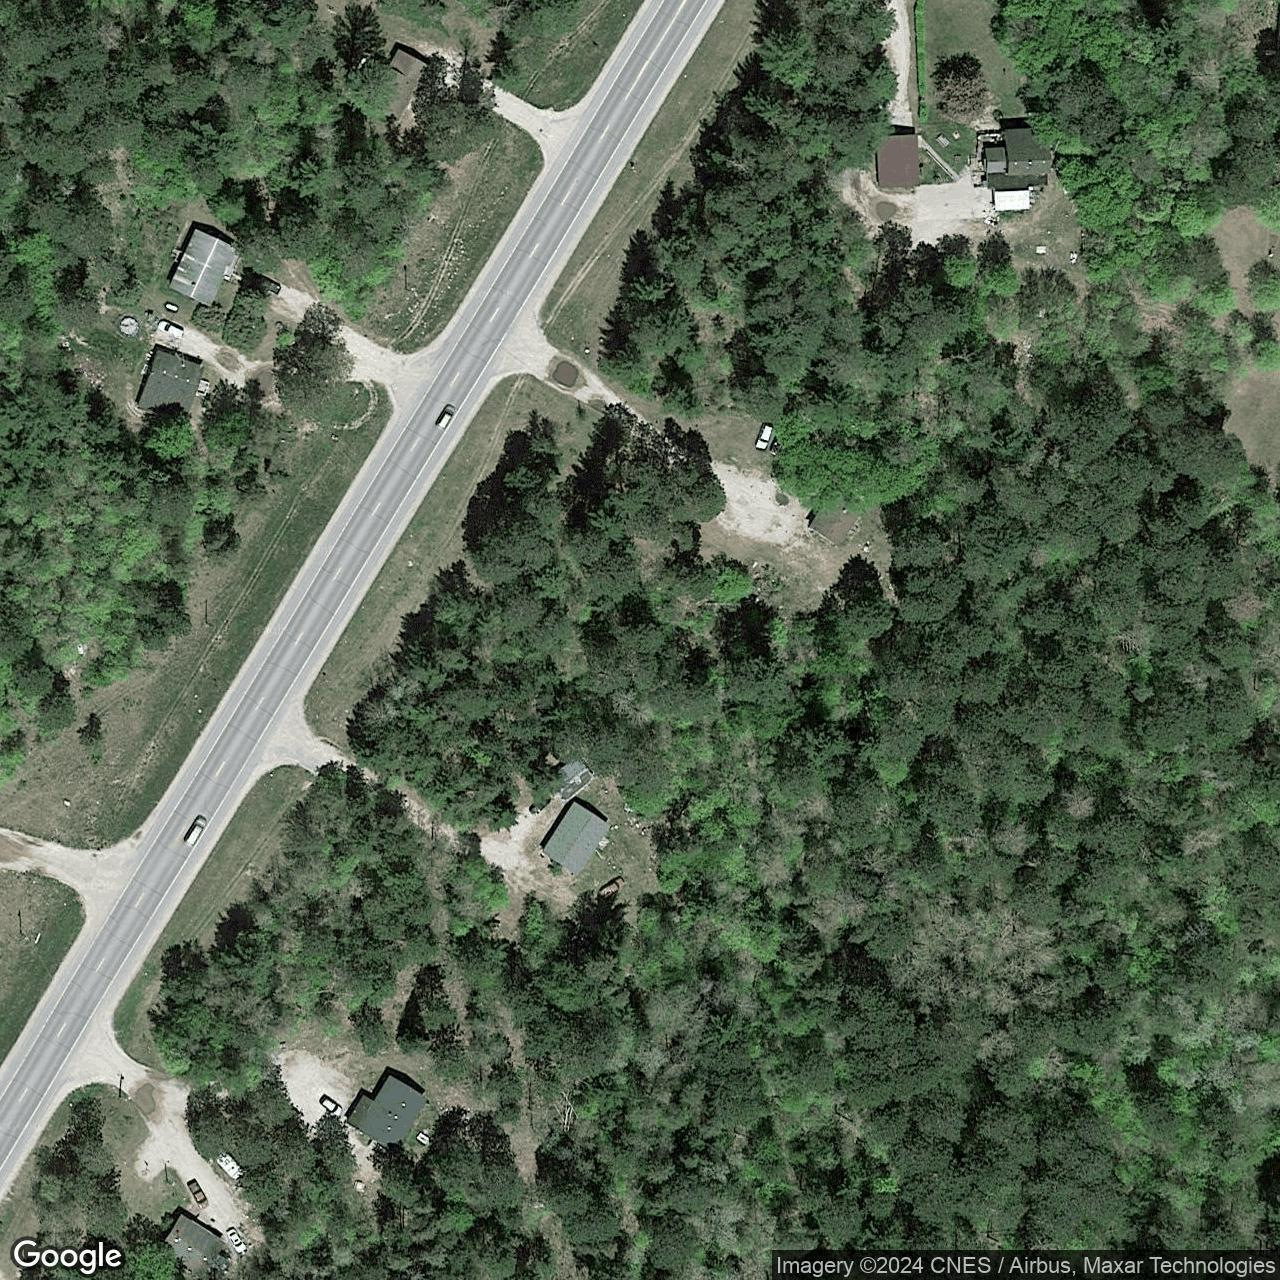Garage: (877, 134, 920, 188)
House: (346, 1074, 428, 1152), (168, 227, 239, 309), (362, 46, 431, 128), (542, 799, 612, 879), (136, 349, 205, 421), (983, 128, 1054, 190), (162, 1212, 226, 1279), (808, 492, 865, 547)
Propane: (163, 300, 181, 315), (355, 55, 369, 73)
